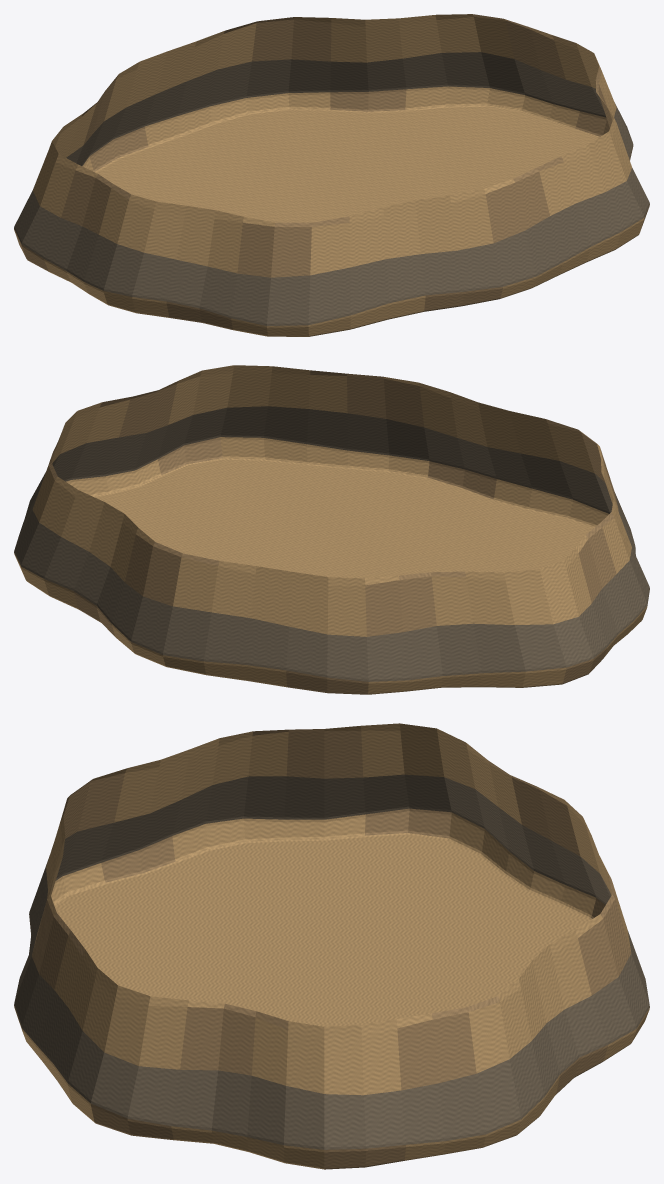
Rendered from Cliff_Middle.fbx.
3 views of the same model, one above another, from view 1: azimuth 30°, elevation 25°; view 2: azimuth 150°, elevation 25°; view 3: azimuth 270°, elevation 25° (orthographic). The views are drawn at different scales.
Parts seen in each view (by area): view 1: Cliff_Middle; view 2: Cliff_Middle; view 3: Cliff_Middle.
Boxes of the visible parts, x1=… form: Cliff_Middle: x1=14, y1=14, x2=649, y2=336; Cliff_Middle: x1=14, y1=365, x2=649, y2=694; Cliff_Middle: x1=14, y1=723, x2=649, y2=1169.
Size of the model in its own units: 5809 by 4548 by 1000.
